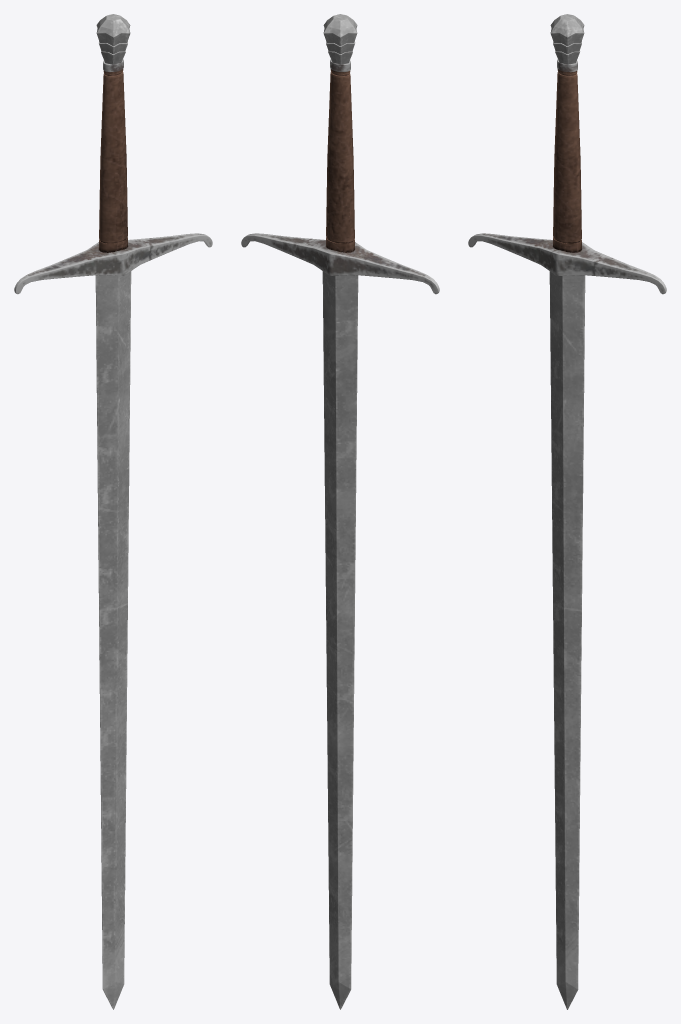
The model's file is SM_Sword_01.fbx.
The picture shows the model from 3 angles, left to right: view 1: azimuth 30°, elevation 25°; view 2: azimuth 150°, elevation 25°; view 3: azimuth 330°, elevation 25°; orthographic projection.
Visible parts, largest first — view 1: SM_Sword_01_LOD0; view 2: SM_Sword_01_LOD0; view 3: SM_Sword_01_LOD0.
Boxes of the visible parts, x1,y1,x2,y2 form: SM_Sword_01_LOD0: (14,14,212,1009); SM_Sword_01_LOD0: (241,14,439,1009); SM_Sword_01_LOD0: (468,14,666,1009).
Bounding box in the file's own units: 25.31 × 4.55 × 122.
Materials: 1 (1 with a texture image).
